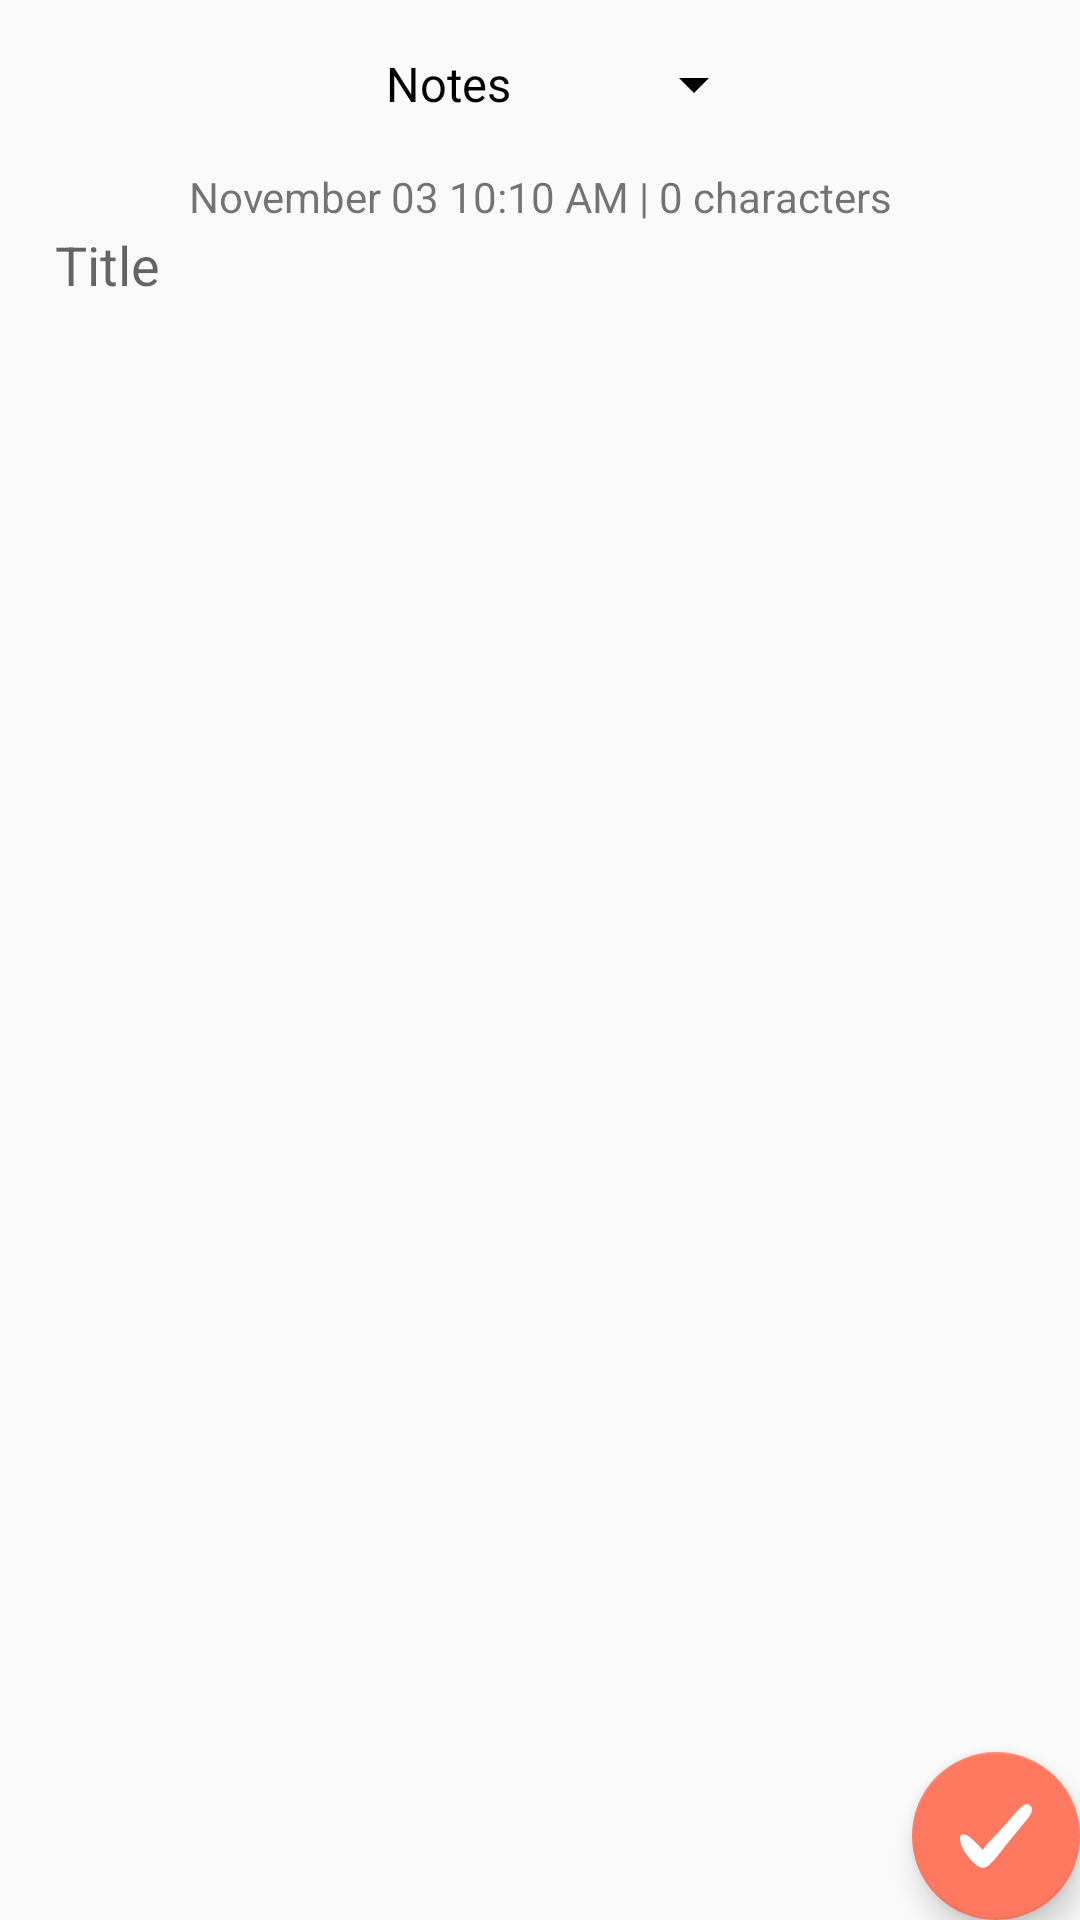

Point at icon controls on the screen. Image size 1080px×1920px, points as point (x, y).
save: point (996, 1836)
